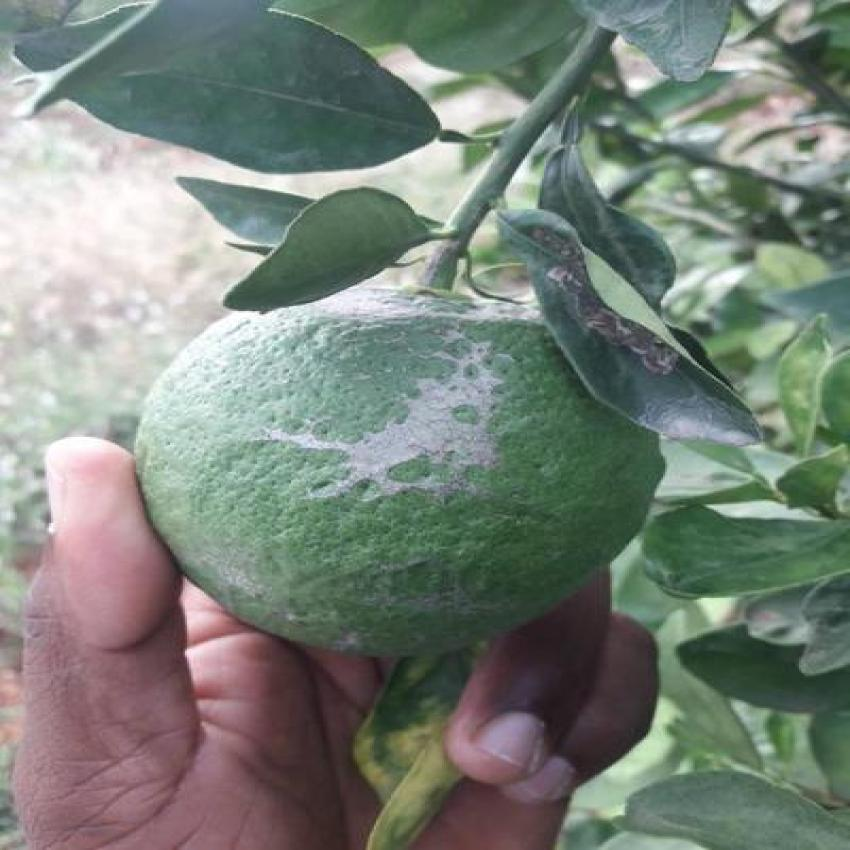Mal estado: (114, 233, 686, 673)
